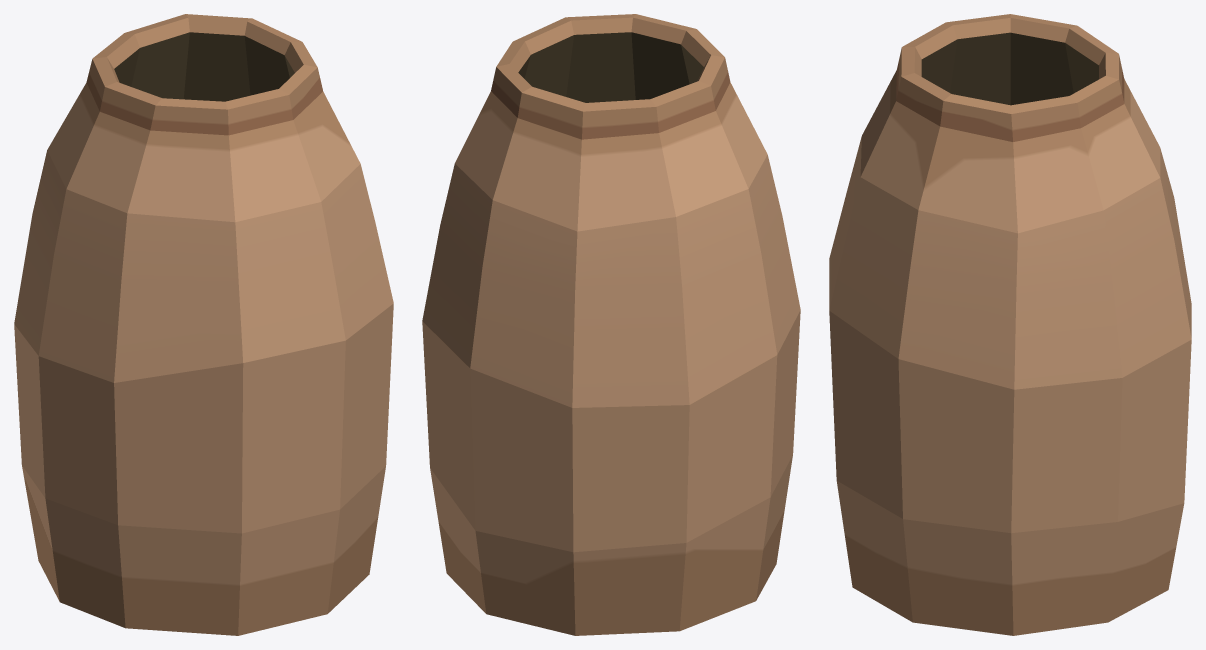
File: SM_Prop_ClayJar_03.glb
3 views of the same model, side by side, from view 1: azimuth 30°, elevation 25°; view 2: azimuth 150°, elevation 25°; view 3: azimuth 270°, elevation 25° (orthographic).
Parts seen in each view (by area): view 1: SM_Prop_ClayJar_03; view 2: SM_Prop_ClayJar_03; view 3: SM_Prop_ClayJar_03.
Boxes of the visible parts, bbox=[...] form: SM_Prop_ClayJar_03: bbox=[14, 14, 393, 635]; SM_Prop_ClayJar_03: bbox=[422, 14, 800, 635]; SM_Prop_ClayJar_03: bbox=[829, 14, 1191, 635].
Bounding box in the file's own units: 1.03 × 1.51 × 0.9757.
Materials: 1 (1 with a texture image).
